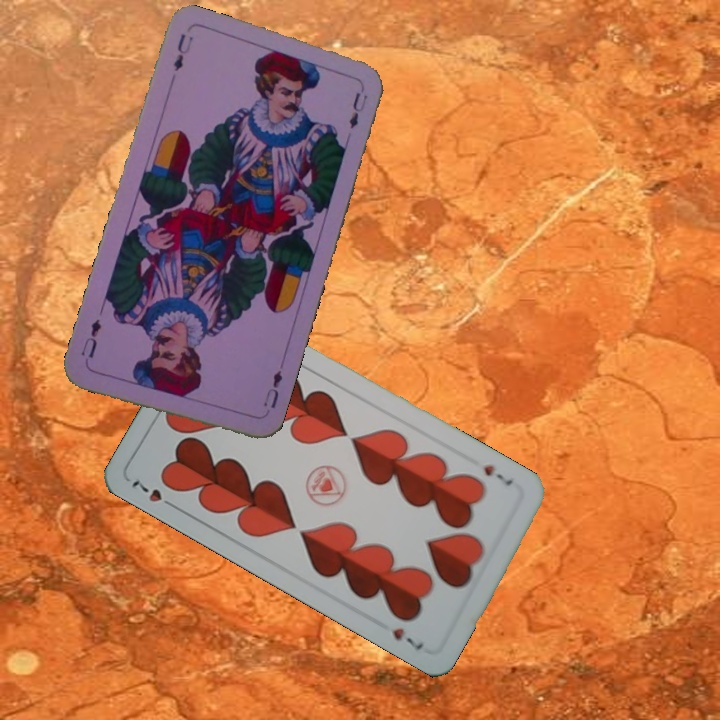EU: (169, 29, 196, 74), (259, 366, 285, 411)
H7: (127, 476, 180, 512), (479, 461, 515, 489)
